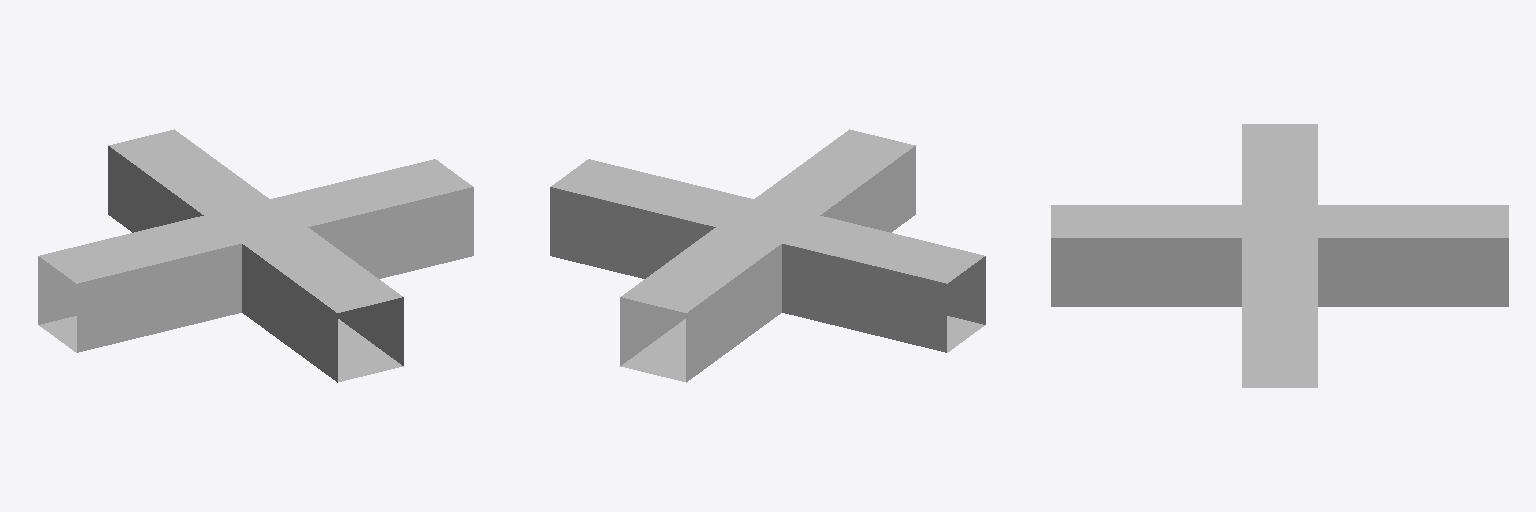
Rendered from Pas4.obj.
3 renders of one model, left to right at view 1: azimuth 30°, elevation 25°; view 2: azimuth 150°, elevation 25°; view 3: azimuth 270°, elevation 25°, orthographic.
Visible parts, largest first — view 1: Cubo; view 2: Cubo; view 3: Cubo.
Boxes of the visible parts, <box> form: Cubo: <box>38,129,473,382</box>; Cubo: <box>550,129,985,382</box>; Cubo: <box>1051,124,1508,387</box>.
Bounding box in the file's own units: 12 × 2 × 12.